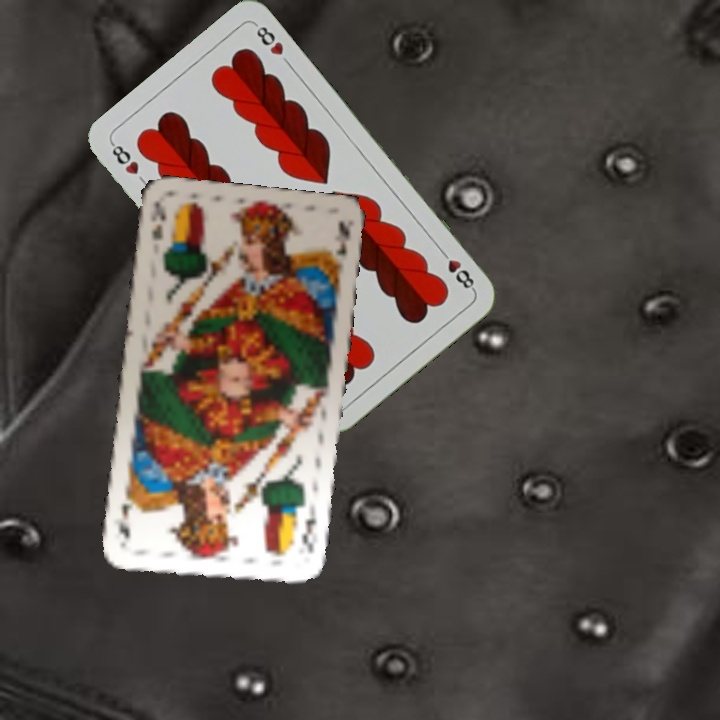EK: (297, 508, 319, 555), (146, 199, 168, 244)
H8: (434, 244, 477, 293), (107, 139, 142, 177)
